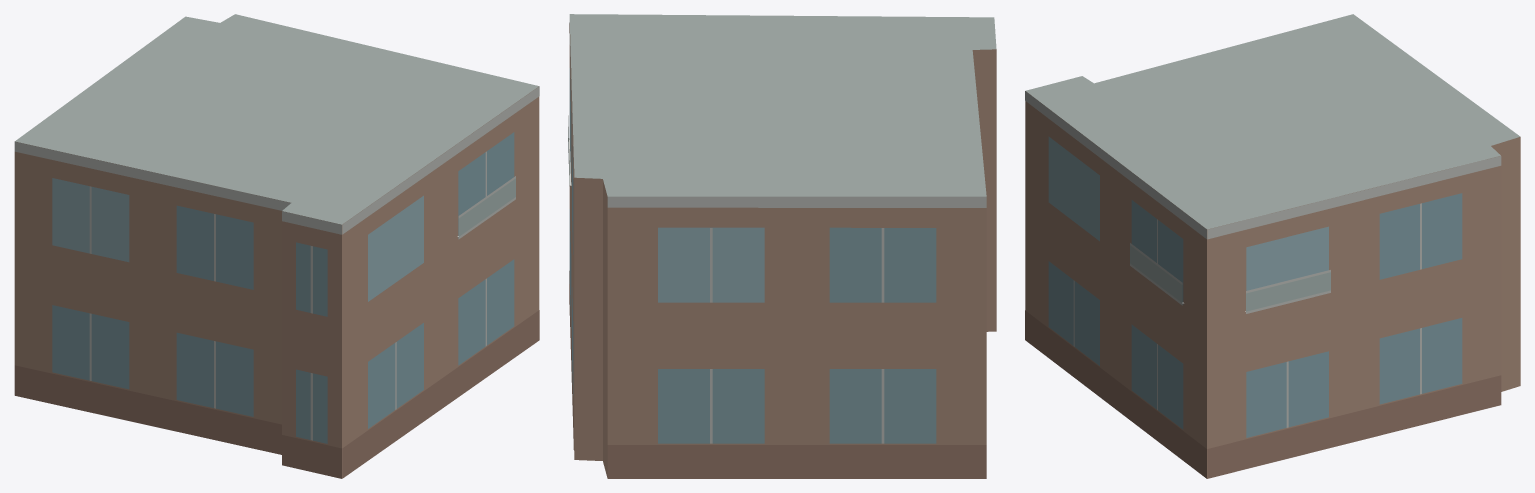
The model's file is survey-upis-32619835.glb.
3 views of the same model, side by side, from view 1: azimuth 30°, elevation 25°; view 2: azimuth 150°, elevation 25°; view 3: azimuth 270°, elevation 25° (orthographic). The views are drawn at different scales.
Parts seen in each view (by area): view 1: survey-upis-32619835.tmp; view 2: survey-upis-32619835.tmp; view 3: survey-upis-32619835.tmp.
Boxes of the visible parts, bbox=[...] form: survey-upis-32619835.tmp: bbox=[14, 14, 539, 478]; survey-upis-32619835.tmp: bbox=[568, 14, 996, 478]; survey-upis-32619835.tmp: bbox=[1025, 14, 1520, 478].
Size of the model in its own units: 11.32 by 6.1 by 10.99.
